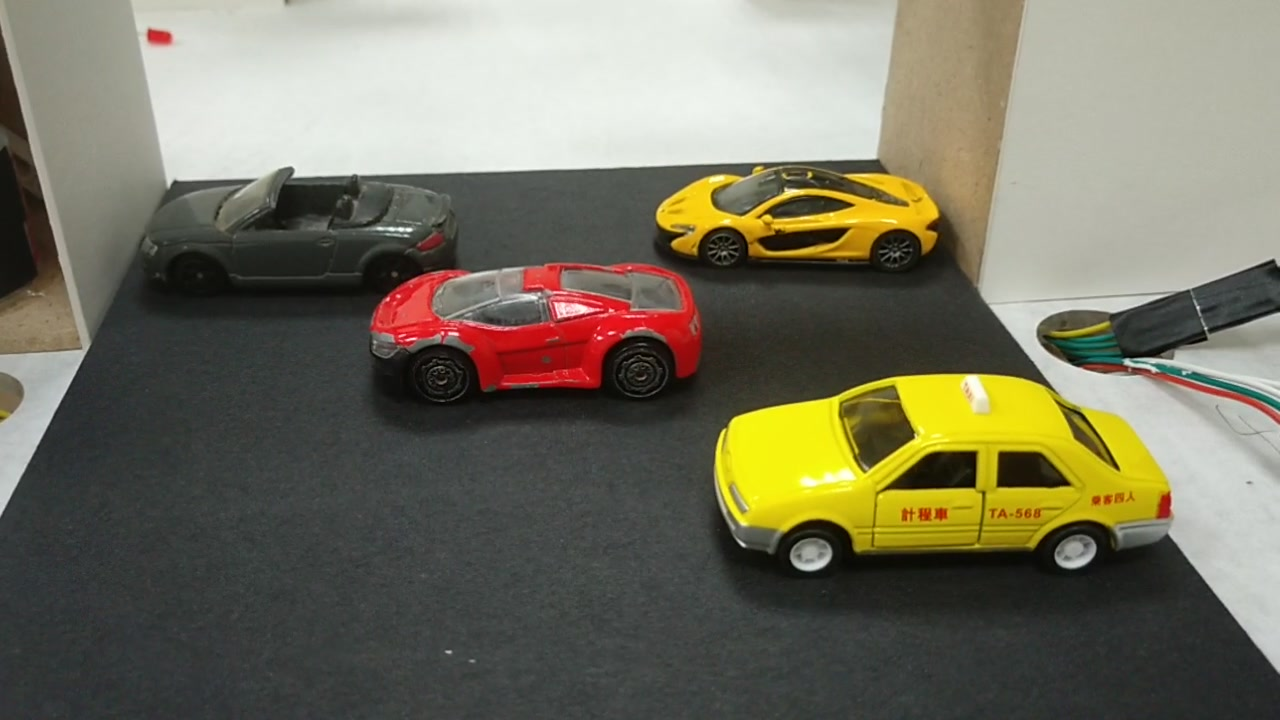car: (726, 376, 1168, 585), (132, 169, 452, 299), (374, 277, 704, 394), (647, 169, 941, 274)
